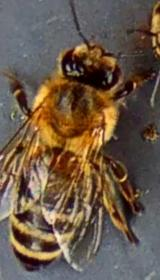varroa_mite: (45, 150, 79, 178)
